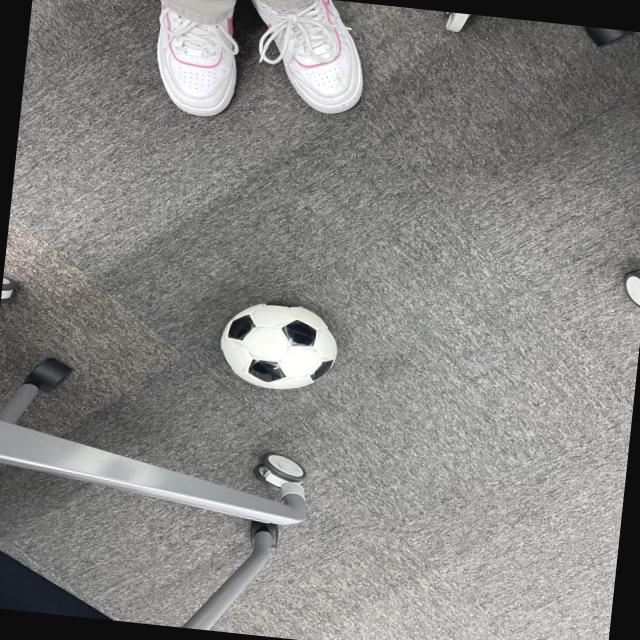Soccer Ball: (209, 295, 344, 398)
